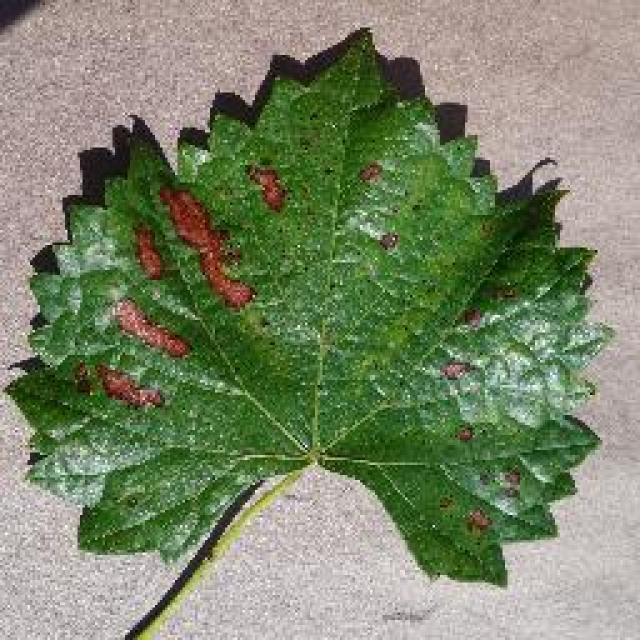Gra_Esca_Black_Measles: (126, 181, 252, 311), (74, 305, 200, 414), (442, 308, 492, 452), (448, 462, 534, 544), (229, 151, 296, 220), (365, 224, 420, 262), (352, 162, 392, 192)
